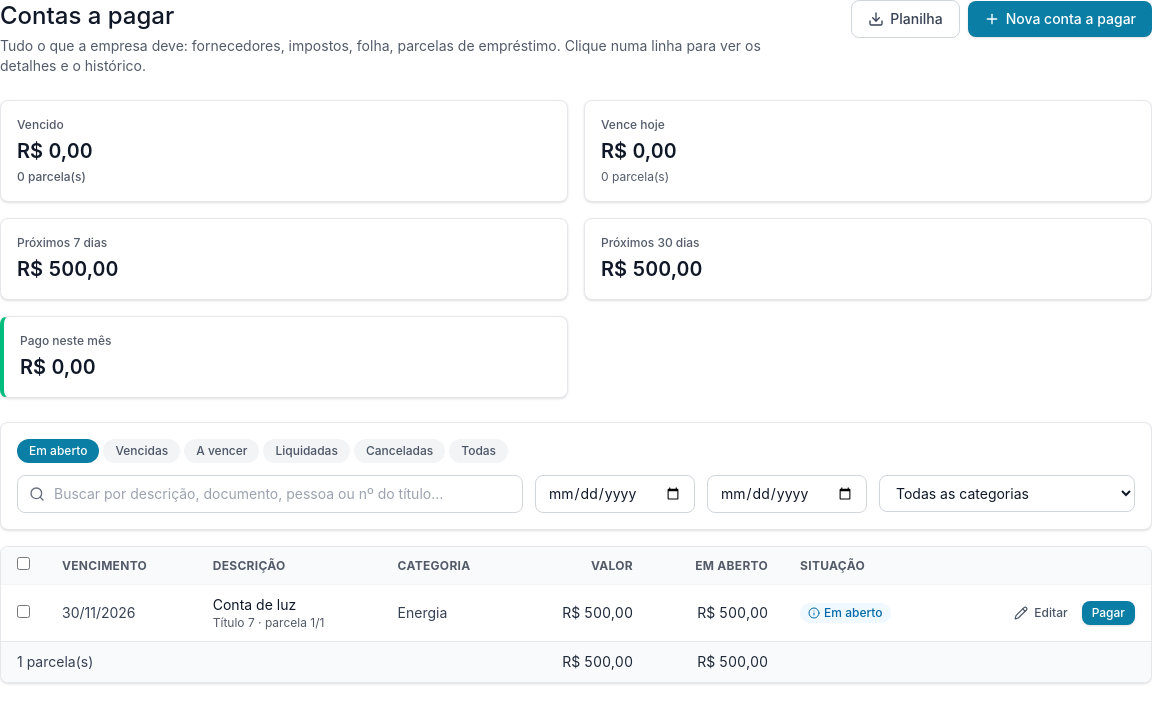
Test: Contas a pagar › a API recusar o pagamento: avisa o motivo e a parcela continua na lista
Check: the text "Conta de luz" is shown, box [213,596,296,613]
Click the button "Pagar".
click(1108, 613)  # box [1082,601,1135,625]
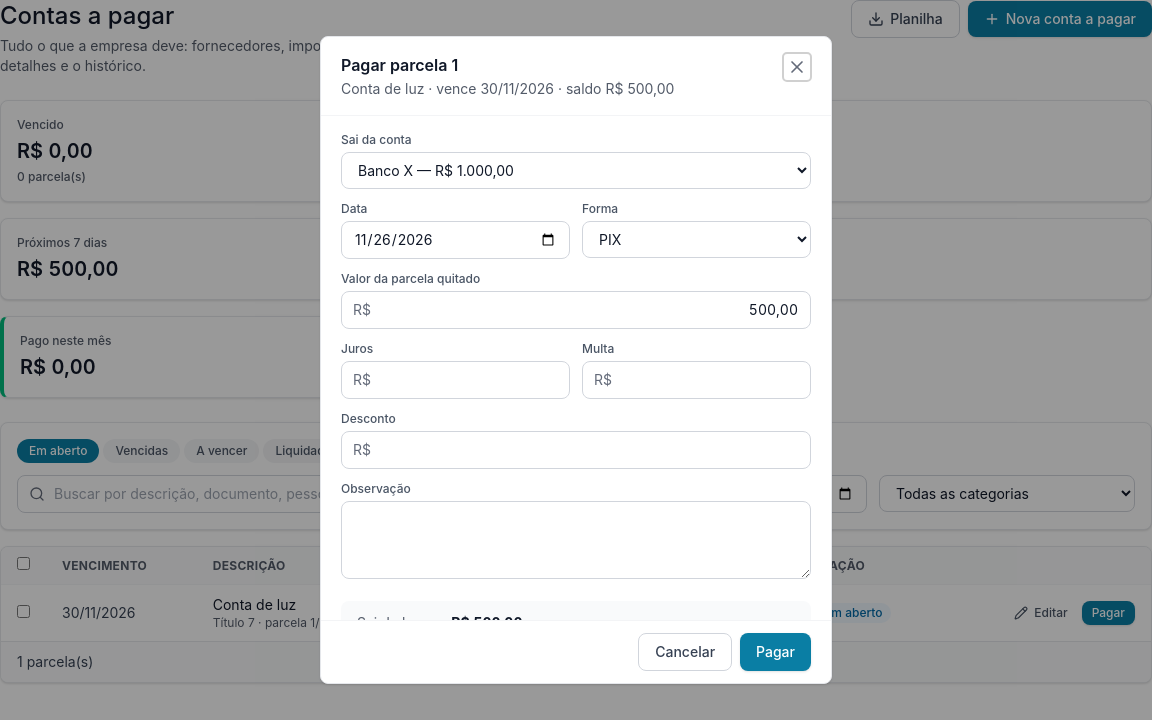
Click the button "Pagar".
click(776, 652)  # box [740,633,811,671]
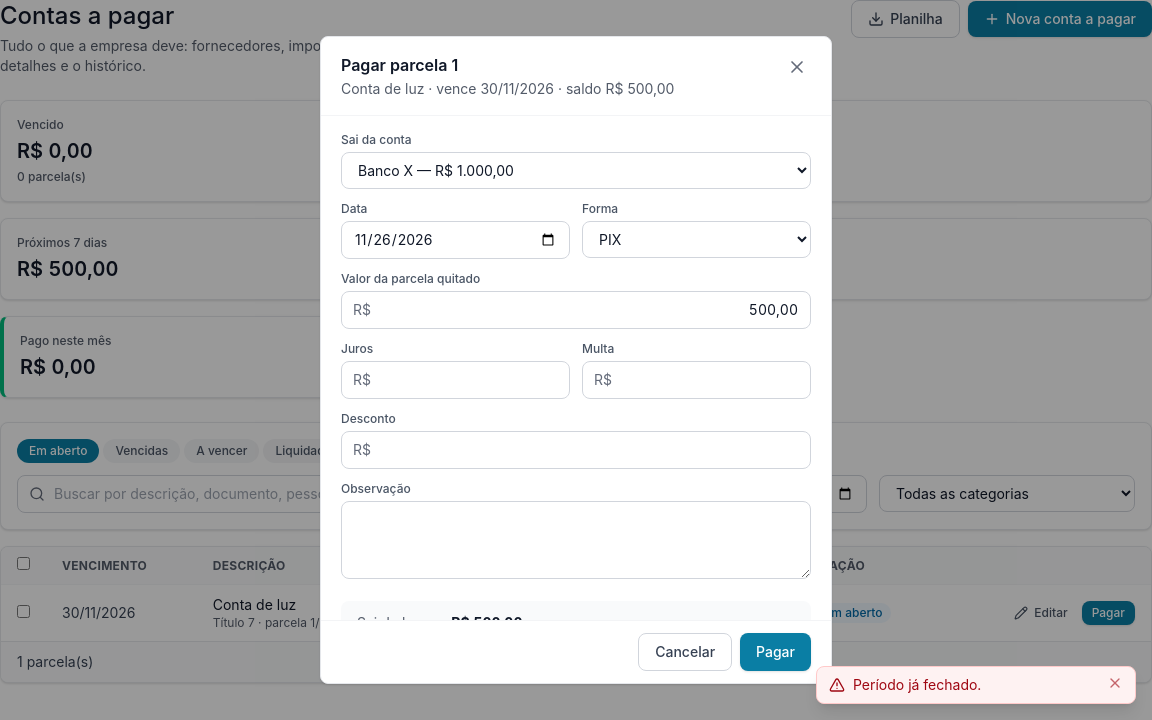
Check: the text "Conta de luz" is shown, box [213,596,296,613]
Check: the message reads "Período já fechado.", box [853,676,981,693]
